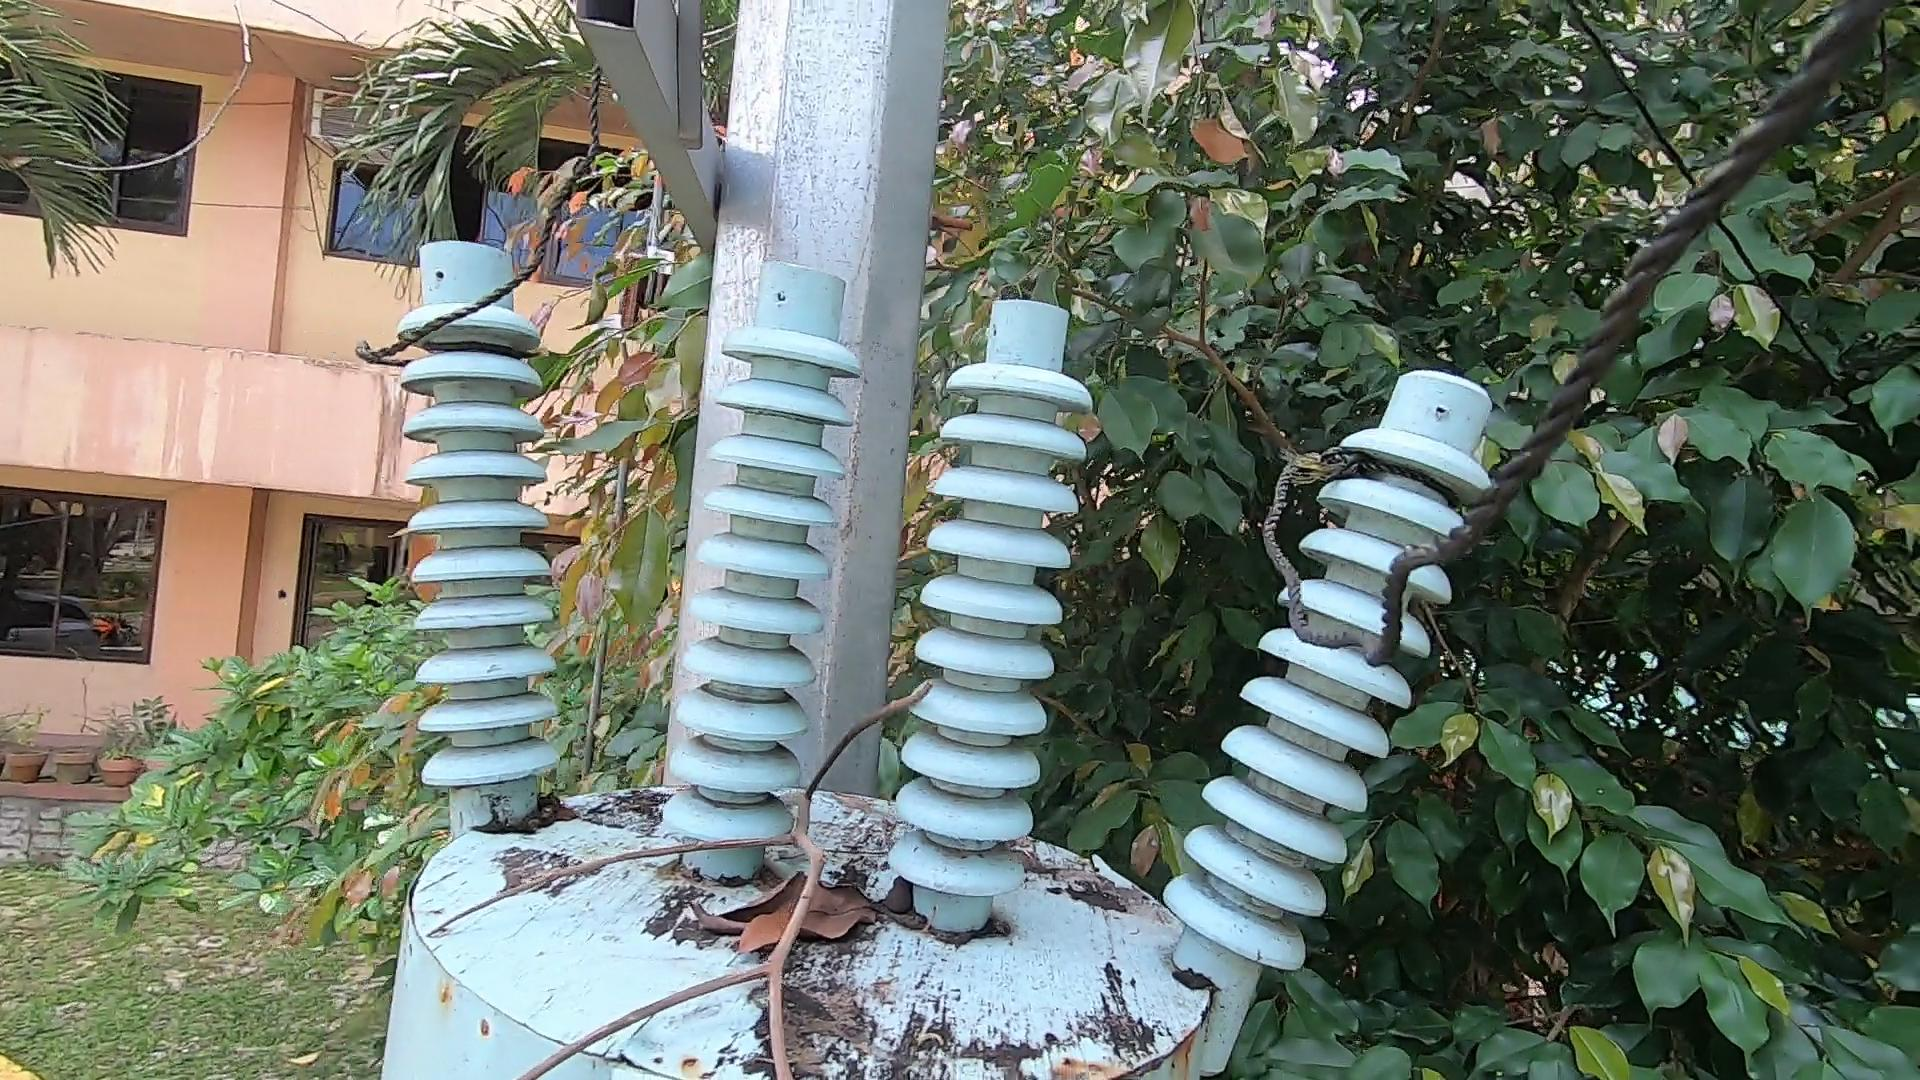leaf: (686, 851, 922, 960), (1022, 837, 1153, 932), (477, 785, 585, 841)
tree branch: (396, 675, 1000, 1080)
